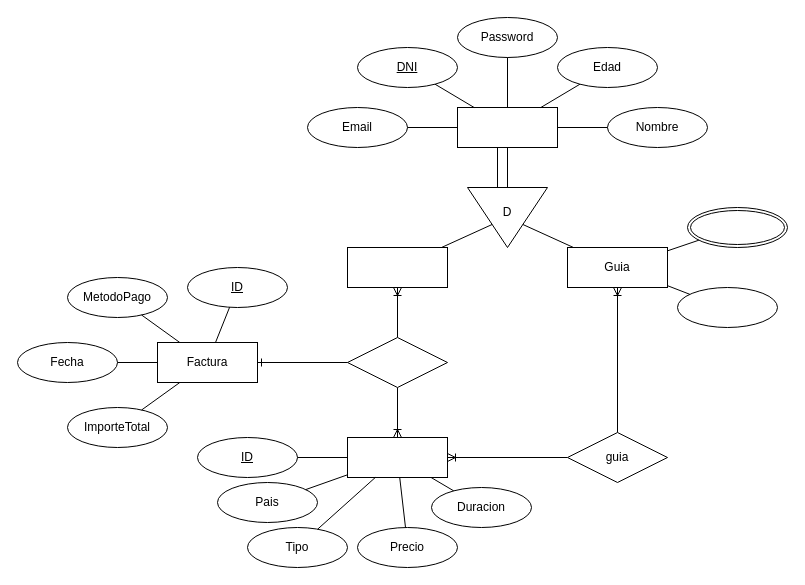
This 805x585 diagram has some shape labels left out. The shapes that lost their labels are listed below. From the top down, each one's centre as x and y in pixels, then its label:
At [507,127]: "Usuario".
At [737,227]: "Especialización".
At [397,267]: "Turista".
At [727,307]: "Salario".
At [397,362]: "alquila".
At [397,457]: "Turs".
